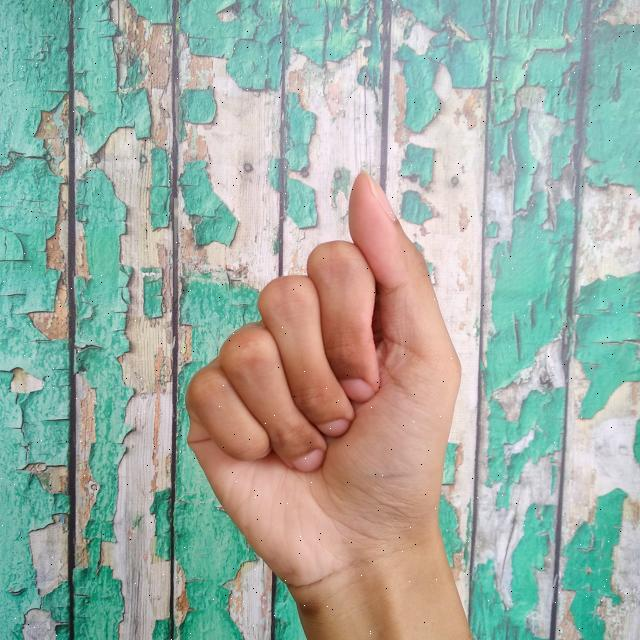A: (183, 165, 466, 640)
